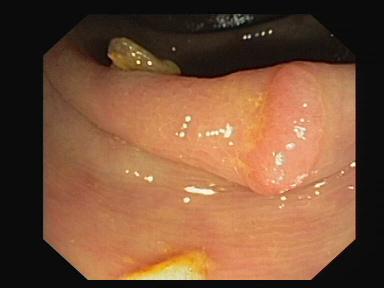polyp: (202, 48, 347, 205), (102, 27, 195, 84), (105, 243, 225, 285)
